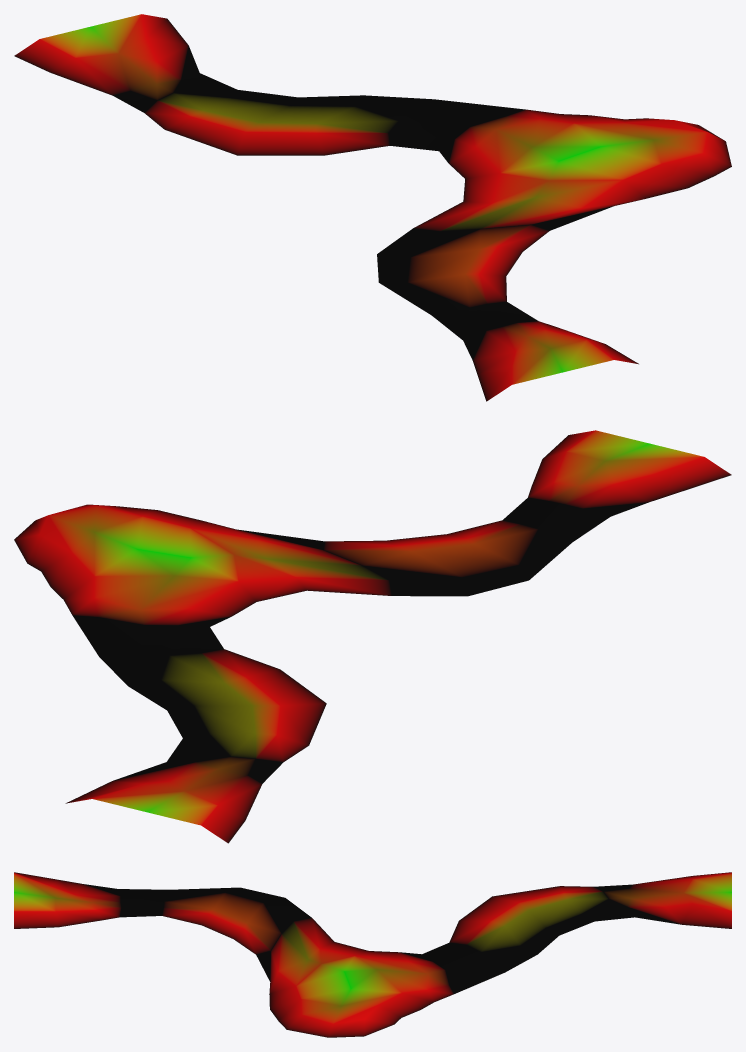
Rendered from Section_WayLineCamp01_Swamp_Terrain.fbx.
The picture shows the model from 3 angles, top to bottom: view 1: azimuth 30°, elevation 25°; view 2: azimuth 150°, elevation 25°; view 3: azimuth 270°, elevation 25°; orthographic projection. The views are drawn at different scales.
Visible parts, largest first — view 1: Section_WayLineCamp01_Swamp_Terrain; view 2: Section_WayLineCamp01_Swamp_Terrain; view 3: Section_WayLineCamp01_Swamp_Terrain.
Part boxes in pixels (x1,y1,x2,y2): Section_WayLineCamp01_Swamp_Terrain: [14, 14, 731, 401]; Section_WayLineCamp01_Swamp_Terrain: [14, 430, 731, 843]; Section_WayLineCamp01_Swamp_Terrain: [14, 872, 731, 1037].
Size of the model in its own units: 4366 by 101 by 8000.
